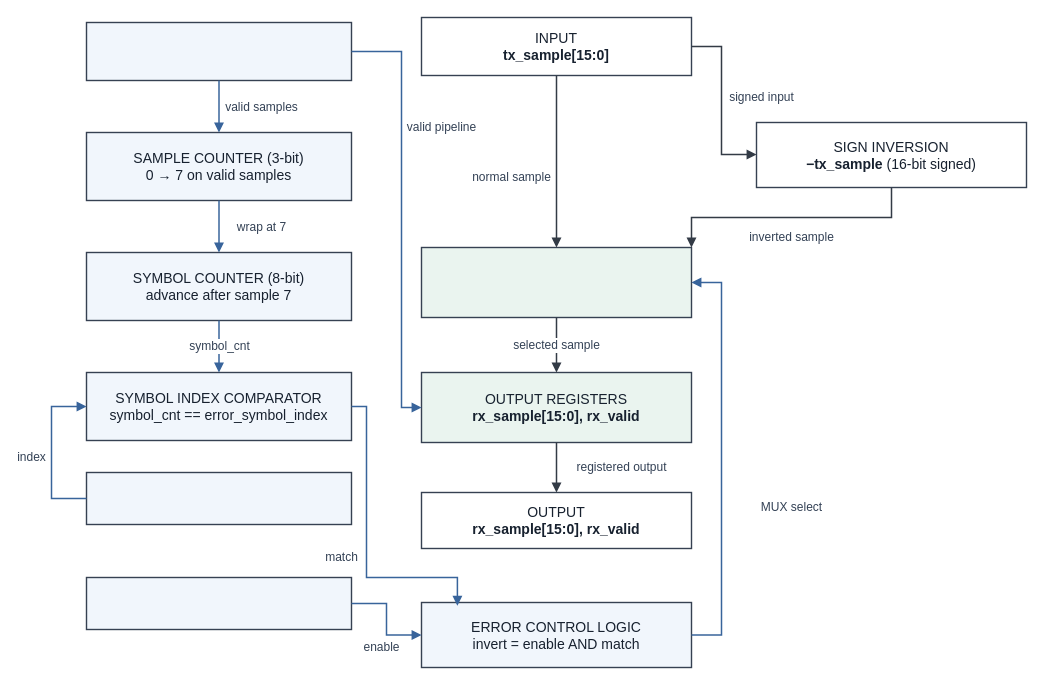
Image size: 1045x686. Some labels were removed from this diagram. The shapes that lost their labels are listed below. From the top down, each one's box as (x1, y1, x2, y2) in pixels, then its label:
(85, 21, 352, 81): INPUT sample_valid
(420, 246, 692, 318): 2:1 MULTIPLEXER select: invert_symbol
(85, 471, 352, 525): INPUT: error_symbol_index[7:0]
(85, 576, 352, 630): INPUT: error_enable
